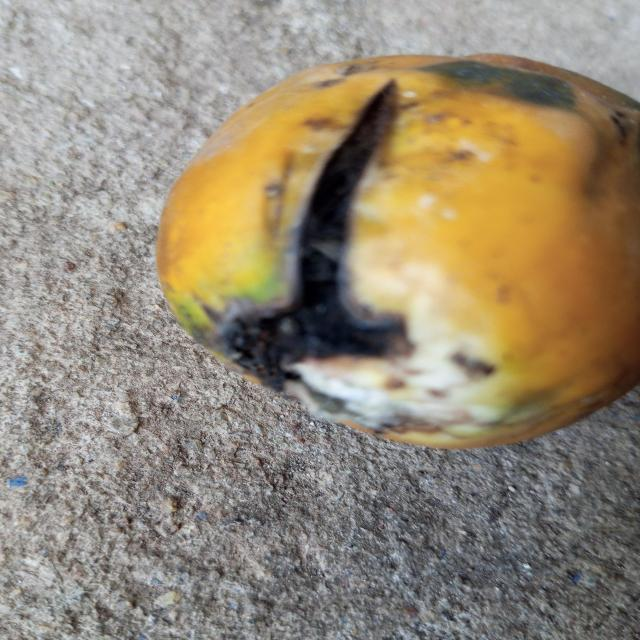damaged: (156, 54, 640, 453)
